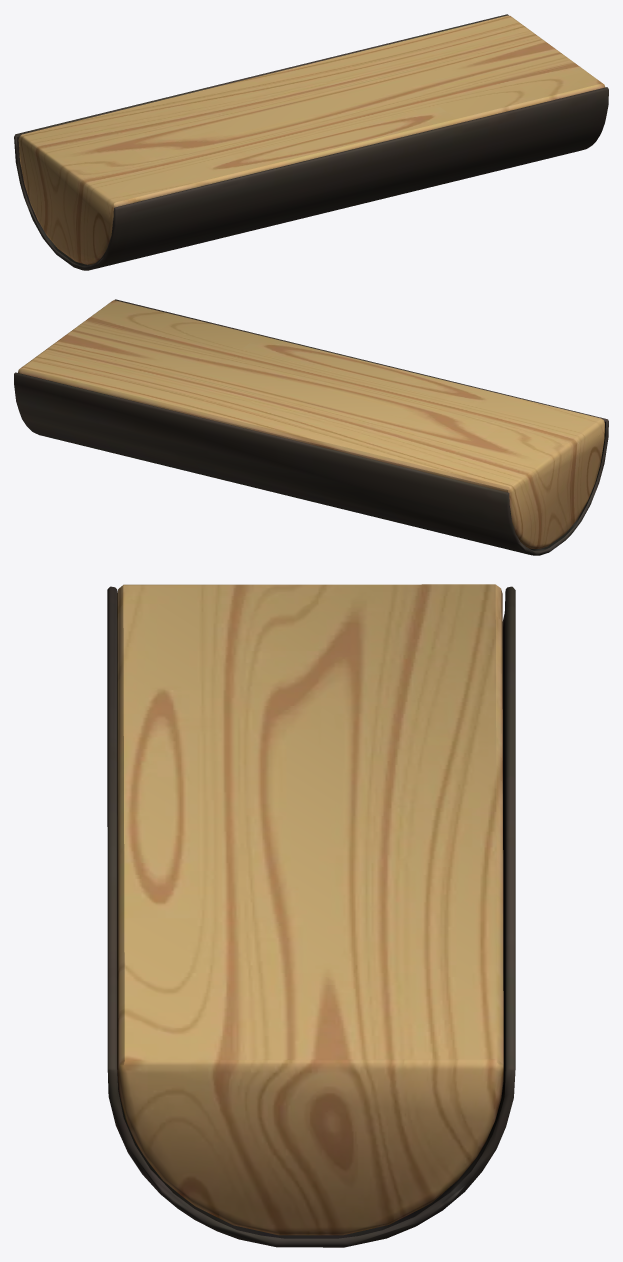
Rendered from log-transformed.glb.
3 renders of one model, top to bottom at view 1: azimuth 30°, elevation 25°; view 2: azimuth 150°, elevation 25°; view 3: azimuth 270°, elevation 25°, orthographic. The views are drawn at different scales.
Parts seen in each view (by area): view 1: log; view 2: log; view 3: log.
Part boxes in pixels (box(x1,y1,x2,y2)): log: box(14, 14, 608, 270); log: box(14, 299, 608, 555); log: box(107, 584, 515, 1247).
Size of the model in its own units: 2.27 by 0.4059 by 0.8101.
1 material, 1 textured.
